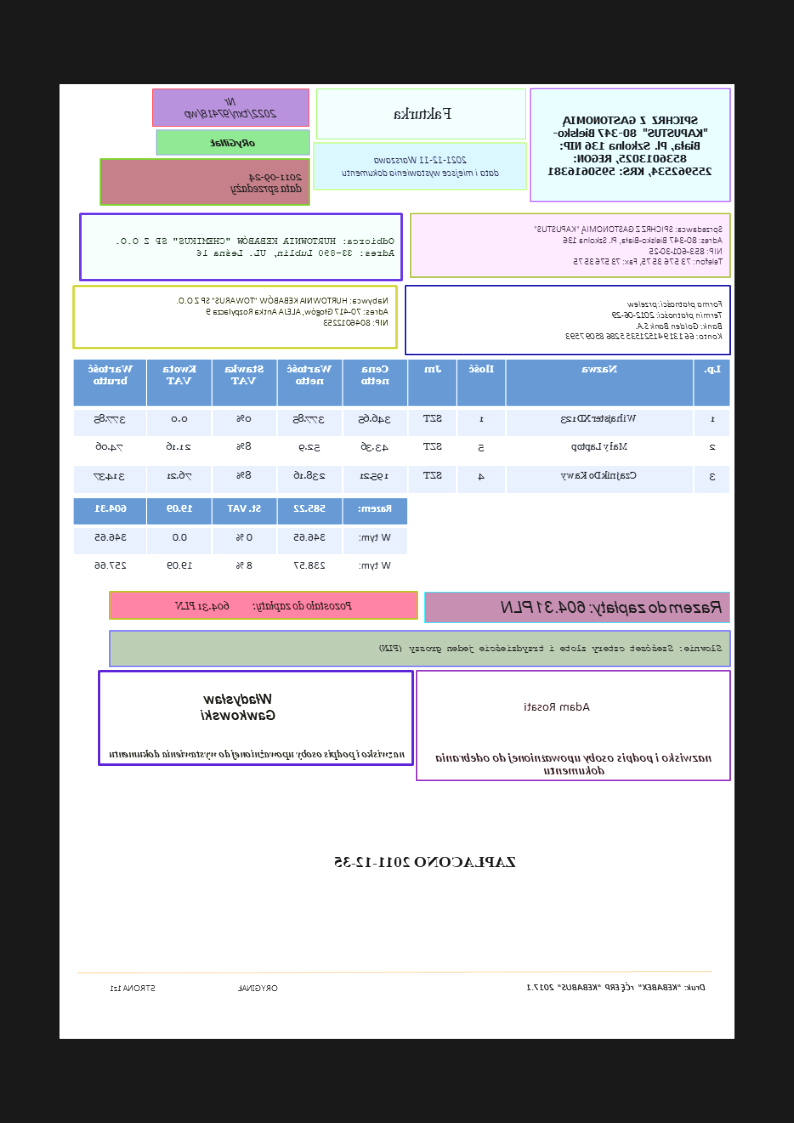Table: (73, 359, 731, 495), (73, 497, 408, 584)
TextBox: (546, 114, 715, 178), (532, 224, 724, 267), (174, 295, 391, 328), (114, 234, 396, 259), (564, 298, 724, 342), (434, 751, 715, 776), (107, 747, 407, 763), (496, 598, 726, 618), (376, 642, 724, 655), (340, 154, 503, 179), (331, 853, 519, 870), (173, 598, 355, 614), (183, 94, 281, 122), (199, 689, 277, 723), (524, 981, 708, 994), (229, 173, 304, 197), (392, 105, 454, 122), (523, 700, 593, 713), (208, 136, 258, 151), (109, 984, 158, 995), (237, 983, 281, 994)
